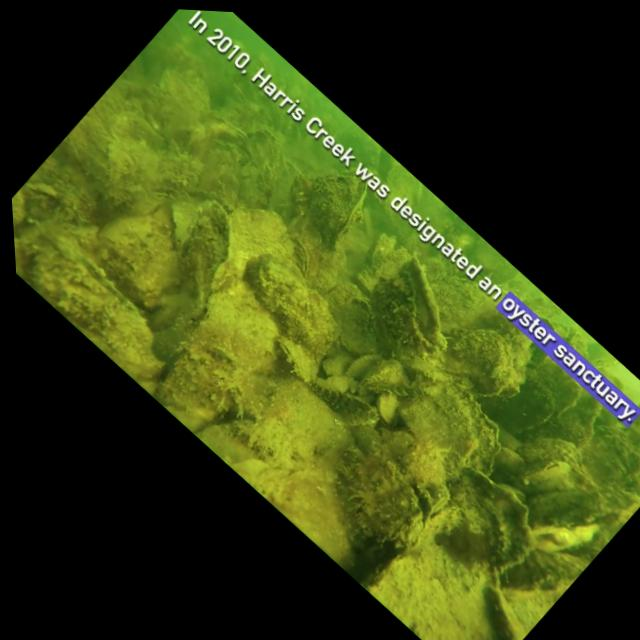Oyster-Closed: (283, 148, 389, 255), (511, 441, 579, 510), (264, 330, 325, 388), (273, 230, 324, 280), (208, 106, 255, 151)
Oyster-Indeterminate: (13, 214, 193, 394), (294, 432, 453, 591), (372, 349, 526, 500), (417, 451, 558, 590), (345, 248, 482, 384), (142, 191, 265, 314), (141, 324, 258, 442), (185, 279, 296, 389), (427, 304, 535, 410), (213, 174, 315, 275), (232, 240, 323, 330), (511, 343, 596, 427), (521, 491, 603, 574), (85, 193, 166, 273), (142, 57, 222, 136), (185, 129, 263, 207), (345, 340, 419, 416), (517, 413, 592, 487), (456, 576, 541, 640), (471, 295, 543, 364), (576, 463, 640, 540), (493, 373, 563, 443), (232, 119, 294, 181), (479, 431, 540, 491), (236, 154, 292, 210), (122, 180, 171, 229), (614, 389, 640, 476), (343, 342, 388, 389), (363, 385, 408, 429), (314, 342, 357, 386), (98, 174, 139, 216)
Oyster-Open: (20, 170, 66, 215)
